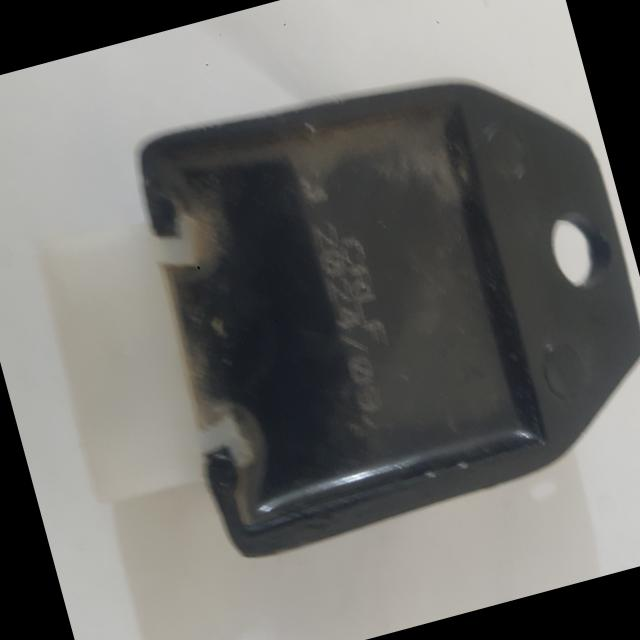general: (114, 23, 640, 564)
